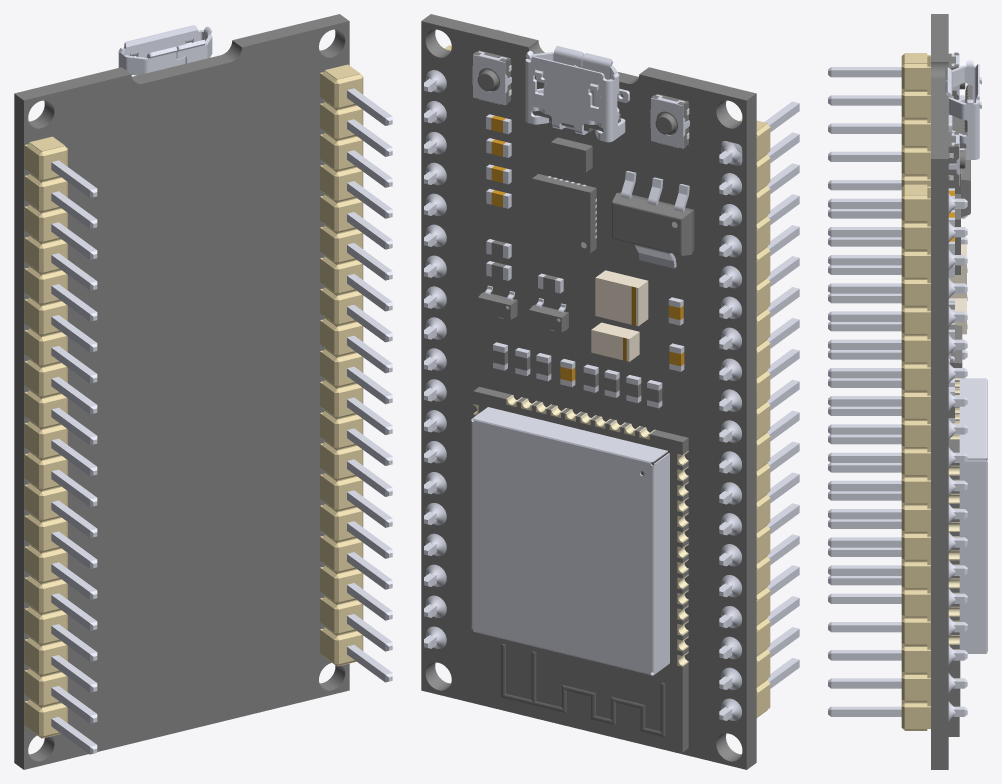
Rendered from esp32.glb.
The picture shows the model from 3 angles, left to right: view 1: azimuth 30°, elevation 25°; view 2: azimuth 150°, elevation 25°; view 3: azimuth 270°, elevation 25°; orthographic projection. The views are drawn at different scales.
Parts seen in each view (by area): view 1: Node4, Node1, Node6, Node2, Node7, Node3, Node8; view 2: Node8, Node7, Node4, Node2, Node3, Node6, Node1, Node13, Node5, Node12; view 3: Node3, Node4, Node7, Node2, Node1, Node6, Node5, Node13, Node8.
Part boxes in pixels (x1,y1,x2,y2): Node4: (14, 14, 349, 769); Node1: (24, 73, 363, 738); Node6: (24, 64, 363, 737); Node2: (51, 25, 392, 754); Node7: (51, 26, 392, 754); Node3: (51, 25, 392, 749); Node8: (14, 94, 54, 769); Node8: (421, 21, 756, 769); Node7: (424, 50, 799, 713); Node4: (421, 14, 756, 760); Node2: (424, 29, 799, 720); Node3: (424, 46, 799, 720); Node6: (444, 45, 770, 692); Node1: (739, 119, 770, 717); Node13: (591, 270, 648, 361); Node5: (473, 395, 688, 666); Node12: (491, 115, 684, 381); Node3: (828, 55, 987, 722); Node4: (931, 14, 972, 769); Node7: (828, 62, 987, 716); Node2: (828, 53, 986, 716); Node1: (901, 53, 930, 730); Node6: (901, 54, 930, 730); Node5: (948, 378, 959, 649); Node13: (949, 244, 966, 334); Node8: (948, 85, 971, 648).
Bounding box in the file's own units: 28 × 55.65 × 13.05.
